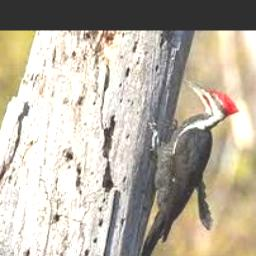Woodpecker: (136, 78, 240, 256)
